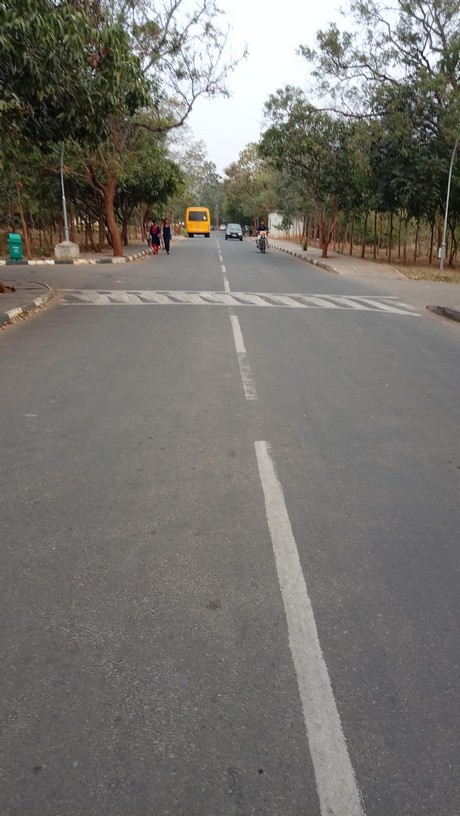bump: (59, 287, 423, 314)
